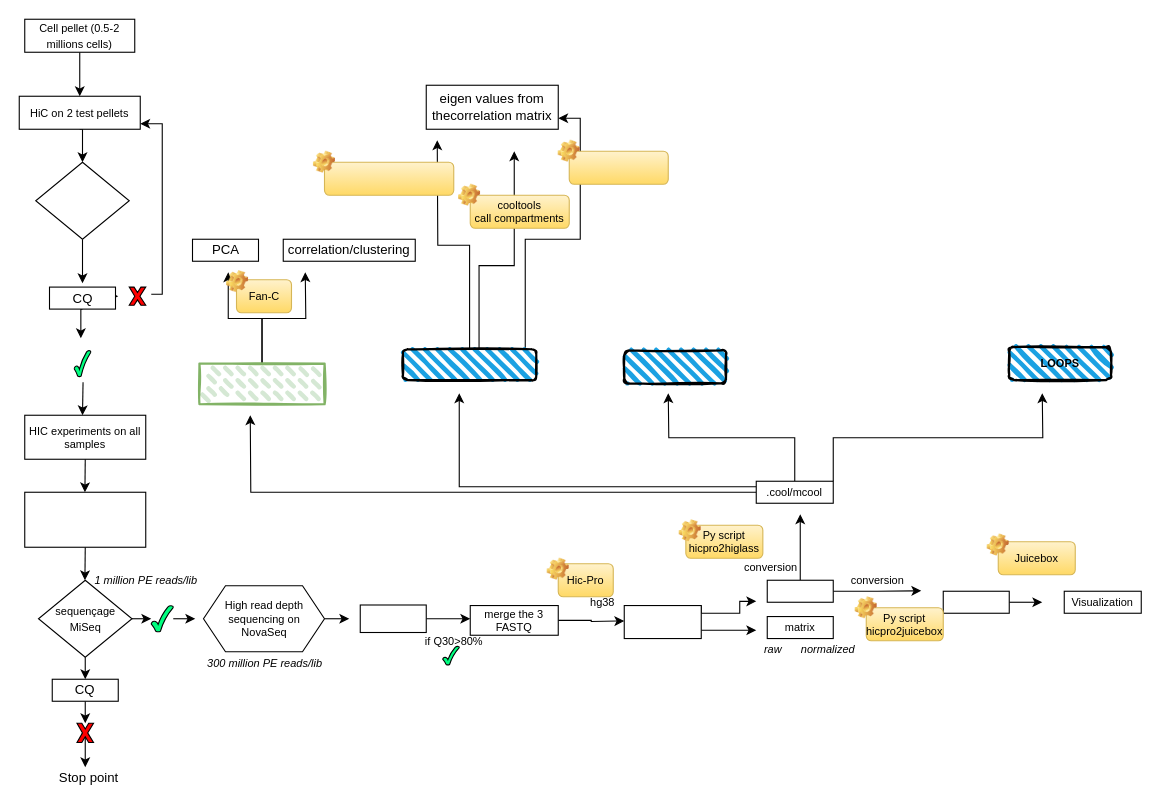
This 1161x809 diagram has some shape labels left out. Here are the shapes that lost their labels. From the top down, the box of each, then its label:
(323, 161, 454, 195): HICexplorer hiccompartimentalization
(568, 150, 668, 184): Fan-C compartments
(35, 161, 129, 239): MiSeq sequencing
(198, 362, 325, 405): non supervised classification
(401, 348, 537, 381): A/B COMPARTMENTS
(623, 349, 727, 384): TADs
(24, 491, 146, 547): library synthesis (3/HIC)
(766, 579, 833, 602): ValidPairs
(942, 590, 1009, 613): .hic
(359, 604, 426, 632): FASTQ
(623, 604, 701, 639): alignment
